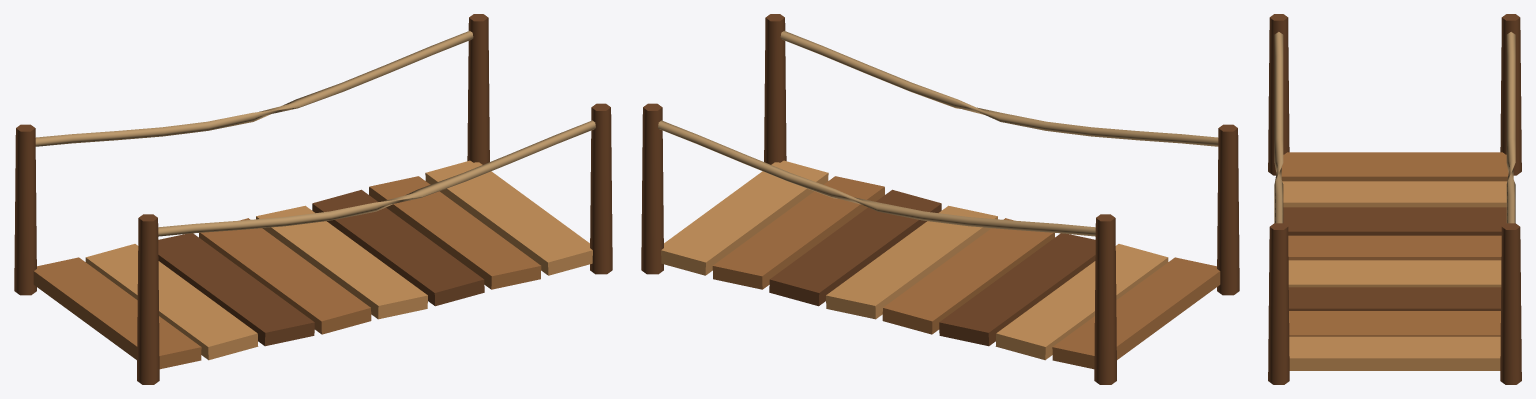
Rendered from BridgeSegment.glb.
The picture shows the model from 3 angles, left to right: view 1: azimuth 30°, elevation 25°; view 2: azimuth 150°, elevation 25°; view 3: azimuth 270°, elevation 25°; orthographic projection. The views are drawn at different scales.
Visible parts, largest first — view 1: Body; view 2: Body; view 3: Body.
Part boxes in pixels (<box>): Body: <box>14,14,612,384</box>; Body: <box>641,14,1239,384</box>; Body: <box>1268,14,1521,384</box>.
Size of the model in its own units: 6.64 by 2.2 by 3.28.
1 material, 1 textured.
